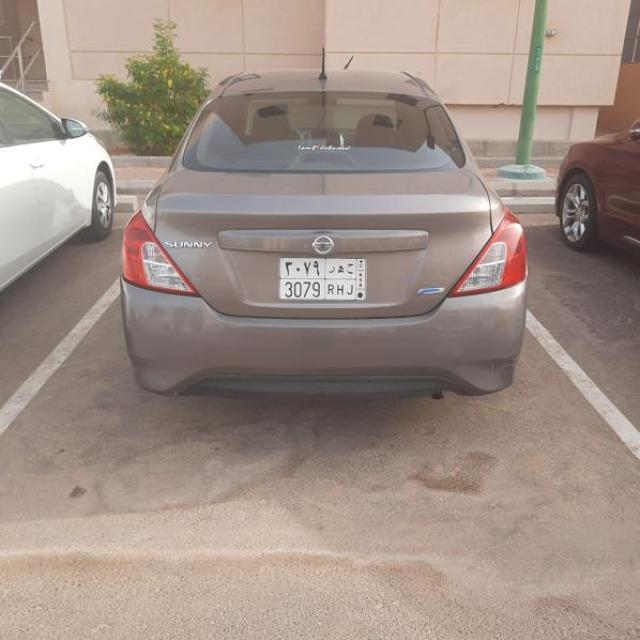license_plate: (278, 258, 366, 300)
